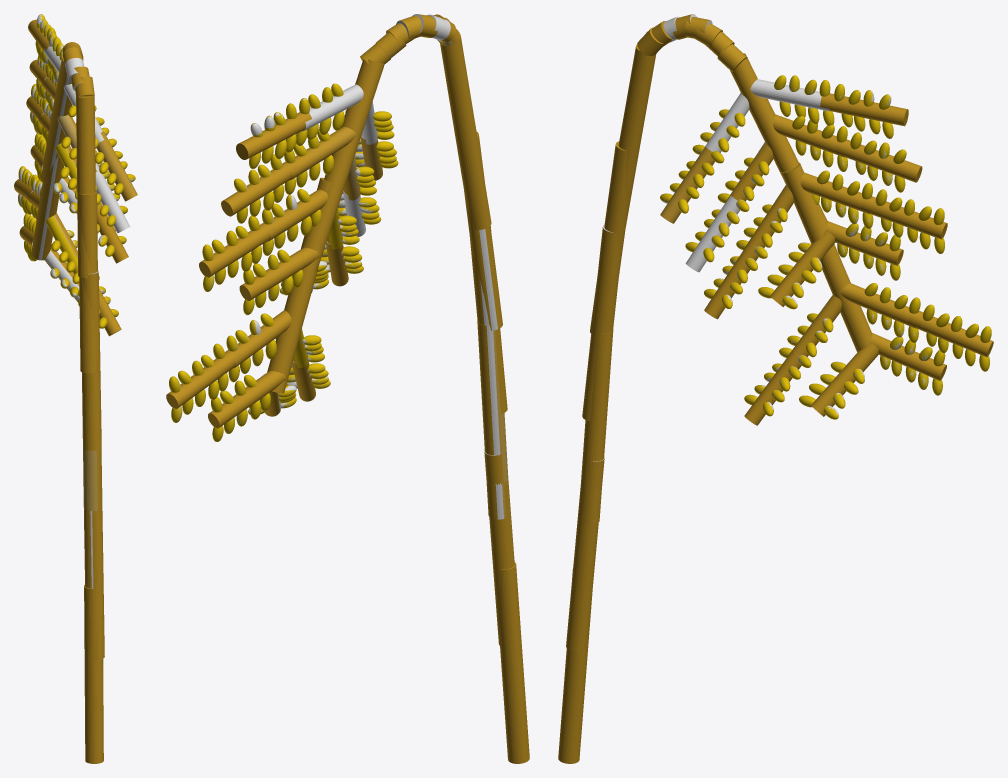
Rendered from wheat1.fbx.
The picture shows the model from 3 angles, left to right: view 1: azimuth 30°, elevation 25°; view 2: azimuth 150°, elevation 25°; view 3: azimuth 270°, elevation 25°; orthographic projection. The views are drawn at different scales.
Parts seen in each view (by area): view 1: Cylinder.002, Cylinder.015, Cylinder.014, Cylinder.005, Cylinder.006, Cylinder.036, Cylinder.009, Cylinder.004, Cylinder.026, Cylinder.029, Cylinder.001, Cylinder.030 (+11 smaller); view 2: Cylinder.002, Cylinder.014, Cylinder.009, Cylinder.004, Cylinder.036, Cylinder.006, Cylinder.015, Cylinder.022, Cylinder.034, Cylinder.021, Cylinder.035, Cylinder.013 (+7 smaller); view 3: Cylinder.006, Cylinder.036, Cylinder.004, Cylinder.005, Cylinder.014, Cylinder.002, Cylinder.009, Cylinder.015, Cylinder.025, Cylinder.021, Cylinder.000, Cylinder.035 (+16 smaller).
Boxes of the visible parts, <box> form: Cylinder.002: <box>84,585,103,763</box>; Cylinder.015: <box>79,191,98,373</box>; Cylinder.014: <box>76,95,95,278</box>; Cylinder.005: <box>82,270,101,450</box>; Cylinder.006: <box>83,484,104,659</box>; Cylinder.036: <box>31,136,65,260</box>; Cylinder.009: <box>41,56,72,181</box>; Cylinder.004: <box>82,388,102,529</box>; Cylinder.026: <box>96,131,137,201</box>; Cylinder.029: <box>95,163,130,233</box>; Cylinder.001: <box>46,213,77,274</box>; Cylinder.030: <box>97,202,128,263</box>; Cylinder.002: <box>499,562,529,763</box>; Cylinder.014: <box>440,34,491,229</box>; Cylinder.009: <box>301,59,384,271</box>; Cylinder.004: <box>477,321,508,519</box>; Cylinder.036: <box>267,177,331,393</box>; Cylinder.006: <box>484,450,514,646</box>; Cylinder.015: <box>464,132,502,330</box>; Cylinder.022: <box>239,247,319,300</box>; Cylinder.034: <box>208,370,285,428</box>; Cylinder.021: <box>221,162,297,216</box>; Cylinder.035: <box>166,350,241,408</box>; Cylinder.013: <box>199,223,276,277</box>; Cylinder.006: <box>566,457,604,651</box>; Cylinder.036: <box>781,162,872,352</box>; Cylinder.004: <box>580,330,613,524</box>; Cylinder.005: <box>582,224,619,421</box>; Cylinder.014: <box>618,44,656,225</box>; Cylinder.002: <box>558,567,592,763</box>; Cylinder.009: <box>730,53,827,232</box>; Cylinder.015: <box>590,141,627,333</box>; Cylinder.025: <box>820,93,908,126</box>; Cylinder.021: <box>835,139,922,182</box>; Cylinder.000: <box>811,342,878,416</box>; Cylinder.035: <box>907,310,993,357</box>.
Bounding box in the file's own units: 15.52 × 78.77 × 40.78.
